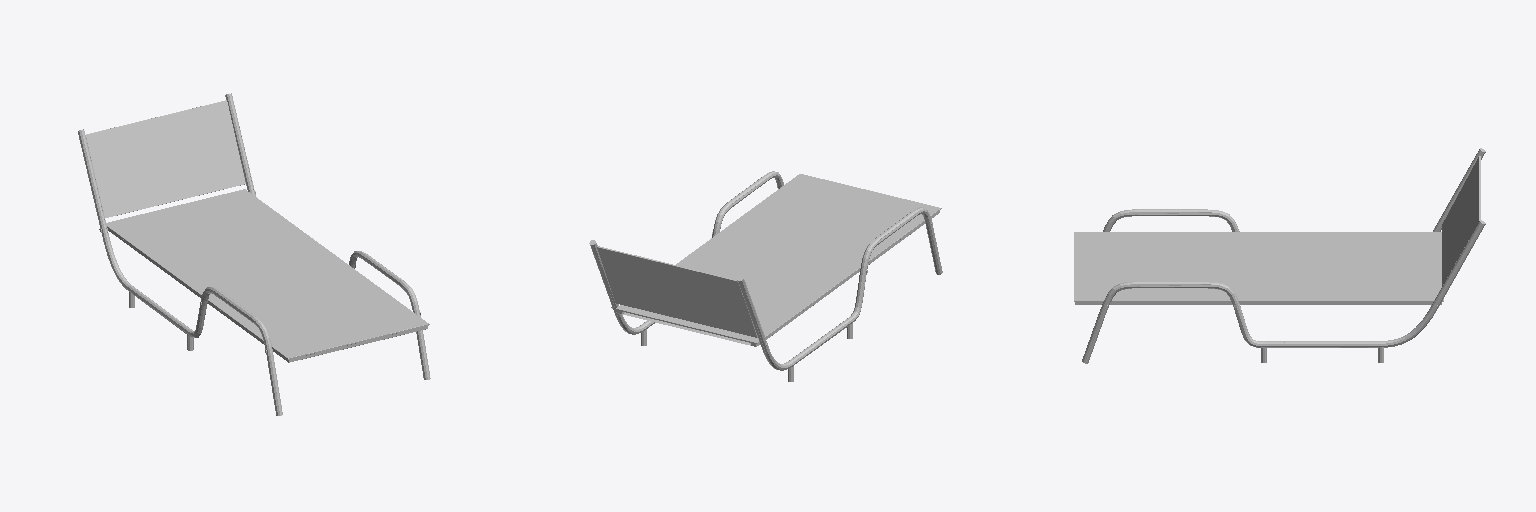
The model's file is lounge_chair.obj.
The picture shows the model from 3 angles: view 1: azimuth 30°, elevation 25°; view 2: azimuth 150°, elevation 25°; view 3: azimuth 270°, elevation 25°; orthographic projection.
Parts seen in each view (by area): view 1: Cube_Cube.001; view 2: Cube_Cube.001; view 3: Cube_Cube.001.
Boxes of the visible parts, x1,y1,x2,y2 form: Cube_Cube.001: [78, 93, 430, 415]; Cube_Cube.001: [589, 171, 942, 381]; Cube_Cube.001: [1074, 148, 1485, 363].
Bounding box in the file's own units: 1.1 × 0.9582 × 2.52.